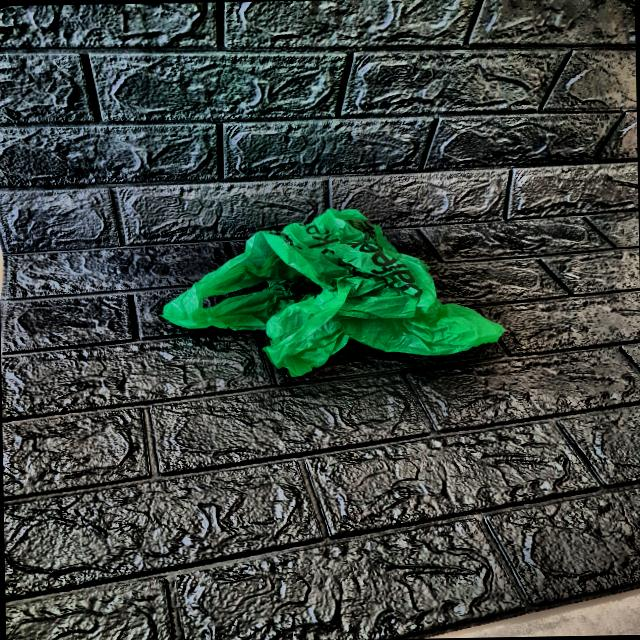plastic bag: (162, 202, 505, 380)
